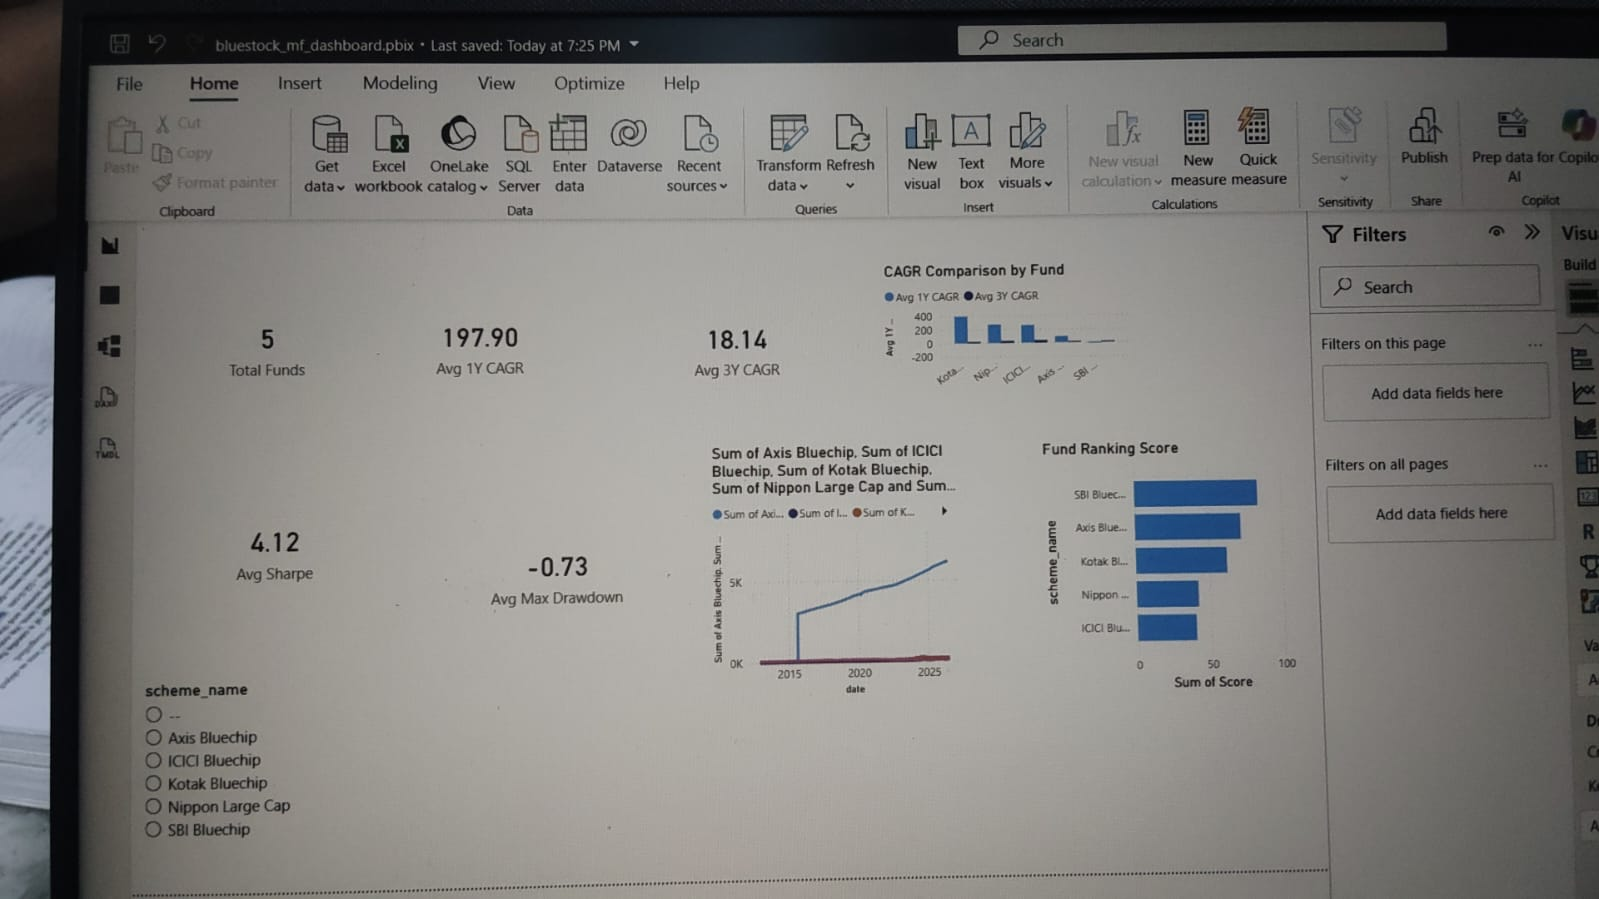

The dashboard page shown, as its layout file describes it:
{"tool":"powerbi","page":{"name":"Fund Overview Dashboard","canvas":[1280,720],"ordinal":0},"visuals":[{"type":"card","fields":{"Values":["cagr_comparison.Total Funds"]},"box":[0,0,279.9,279.9],"z":0},{"type":"card","fields":{"Values":["cagr_comparison.Avg 1Y CAGR"]},"box":[226.4,0,279.9,279.9],"z":1000},{"type":"card","fields":{"Values":["cagr_comparison.Avg 3Y CAGR"]},"box":[506.3,68.6,279.9,150.9],"z":2000},{"type":"card","fields":{"Values":["cagr_comparison.Avg Sharpe"]},"box":[9.6,219.6,279.9,279.9],"z":3000},{"type":"card","fields":{"Values":["cagr_comparison.Avg Max Drawdown"]},"box":[308.7,251.1,279.9,279.9],"z":4000},{"type":"clusteredBarChart","title":"Fund Ranking Score","fields":{"Category":["fund_scorecard.scheme_name"],"Y":["Sum(fund_scorecard.Score)"]},"box":[977,251.1,279.9,279.9],"z":5000},{"type":"clusteredColumnChart","title":"CAGR Comparison by Fund","fields":{"Category":["cagr_comparison.scheme_name"],"Y":["cagr_comparison.Avg 1Y CAGR","cagr_comparison.Avg 3Y CAGR"]},"box":[805.5,50.8,279.9,150.9],"z":6000},{"type":"lineChart","fields":{"Category":["clean_nav_data.date"],"Y":["Sum(clean_nav_data.Axis Bluechip)","Sum(clean_nav_data.ICICI Bluechip)","Sum(clean_nav_data.Kotak Bluechip)","Sum(clean_nav_data.Nippon Large Cap)","Sum(clean_nav_data.SBI Bluechip)"]},"box":[612,251.1,279.9,279.9],"z":7000},{"type":"listSlicer","fields":{"Values":["fund_scorecard.scheme_name"]},"box":[9.6,495.4,299.1,225],"z":8000}]}

Visuals, with their boxes on the page's 1280x720 design canvas (x1, y1, x2, y2). These are canvas units, not pixel positions in the 1599x899 screenshot, which may show the page scaled, cropped or inside an application window:
card - cagr_comparison.Total Funds: 0,0,280,280
card - cagr_comparison.Avg 1Y CAGR: 226,0,506,280
card - cagr_comparison.Avg 3Y CAGR: 506,69,786,220
card - cagr_comparison.Avg Sharpe: 10,220,290,500
card - cagr_comparison.Avg Max Drawdown: 309,251,589,531
"Fund Ranking Score" clusteredBarChart: 977,251,1257,531
"CAGR Comparison by Fund" clusteredColumnChart: 806,51,1085,202
lineChart - clean_nav_data.date x Sum(clean_nav_data.Axis Bluechip): 612,251,892,531
listSlicer - fund_scorecard.scheme_name: 10,495,309,720
